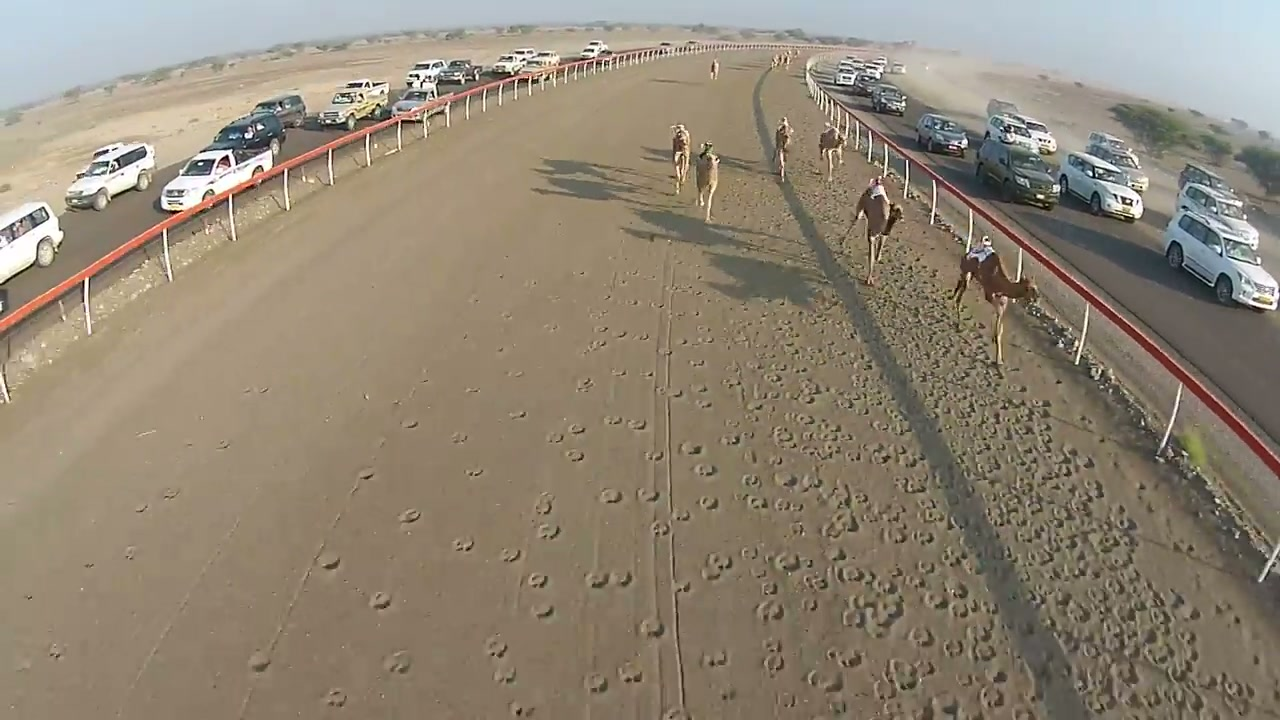animal_footprint: (297, 154, 1279, 719), (659, 305, 910, 714), (316, 550, 340, 570)
